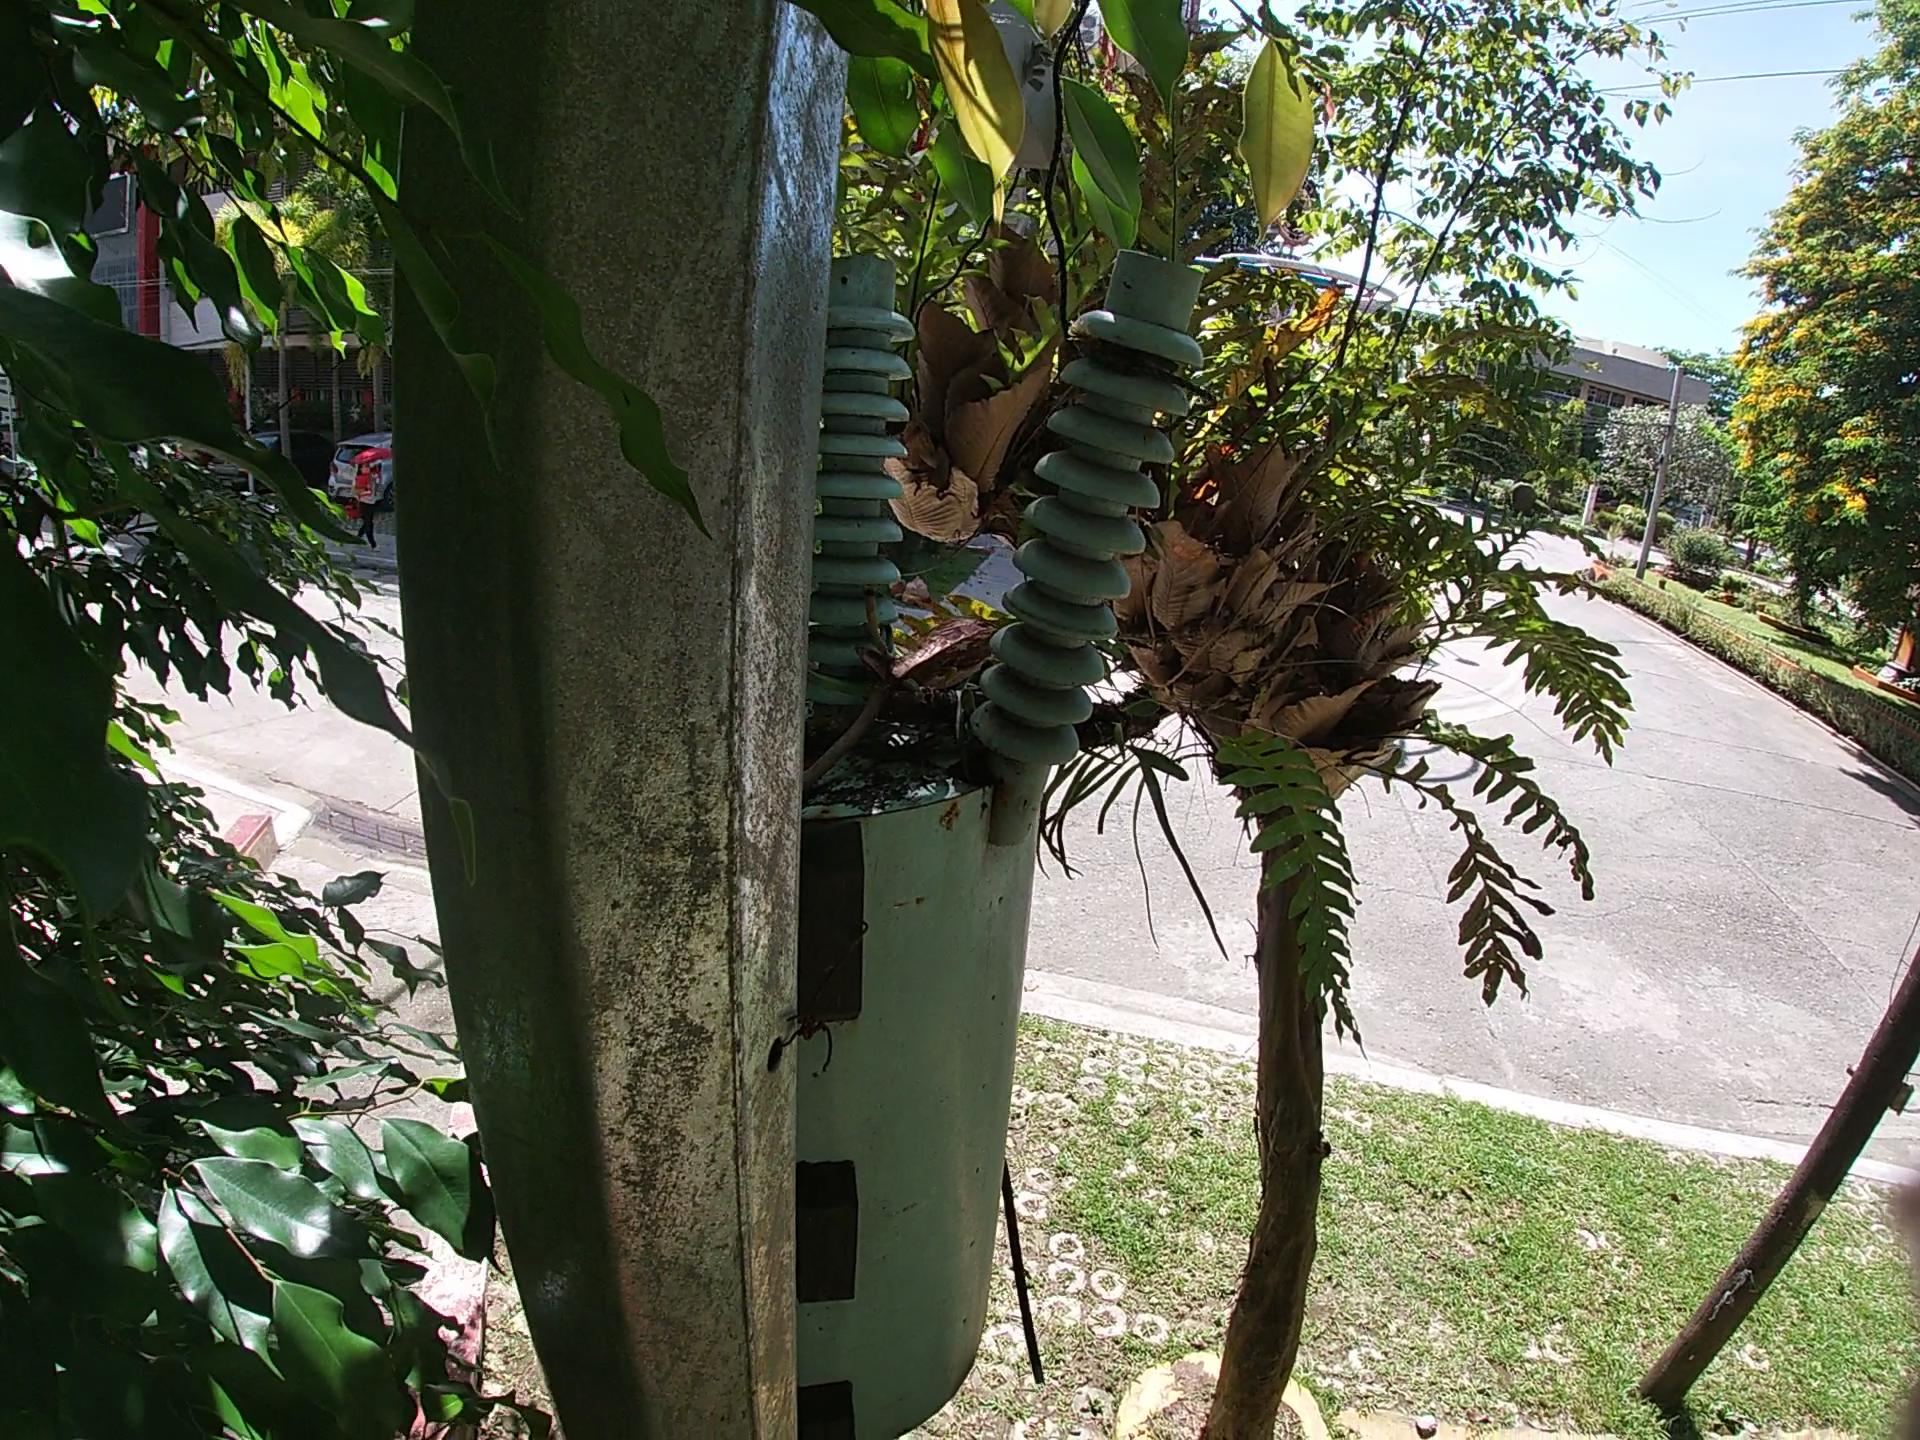branch with leaves: (831, 523, 1232, 835)
mahogany fruit: (845, 545, 996, 697)
tree branch: (741, 678, 989, 829)
